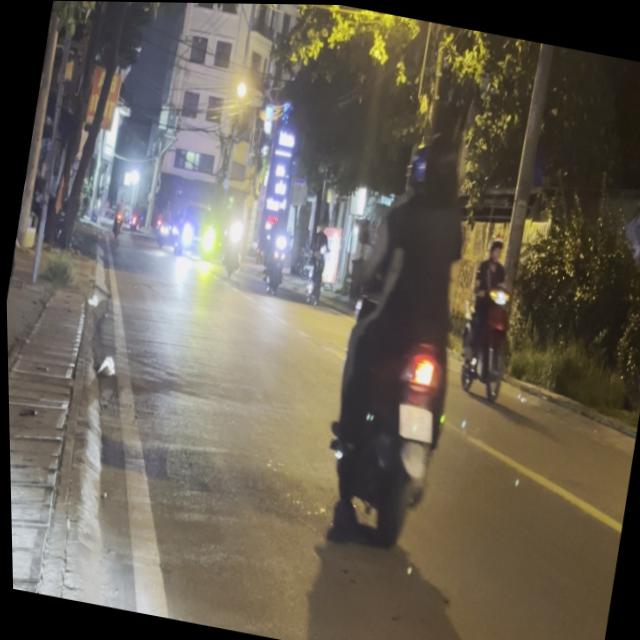helmet: (402, 138, 434, 195)
licenseplate: (300, 114, 499, 557)
motorcyclist: (419, 126, 468, 201)
nohelmet: (393, 399, 435, 439)
